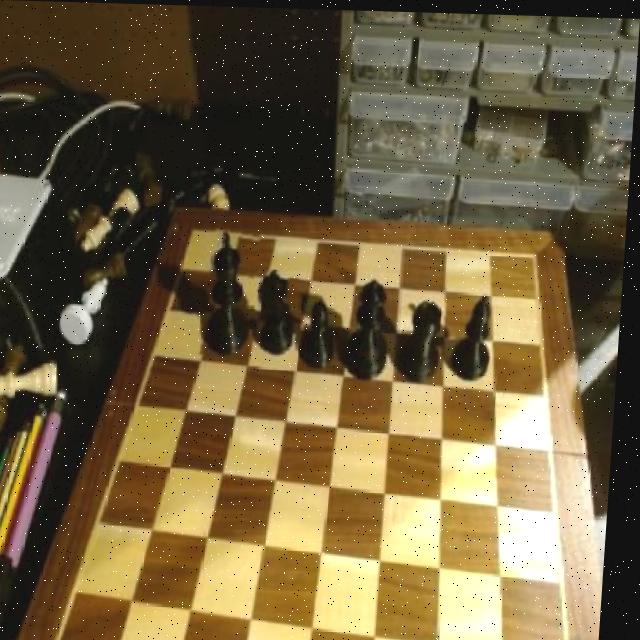black-bishop: (206, 227, 262, 359)
black-king: (257, 270, 307, 362)
black-knight: (305, 300, 345, 375)
black-pawn: (354, 273, 404, 381)
black-queen: (402, 298, 452, 380)
